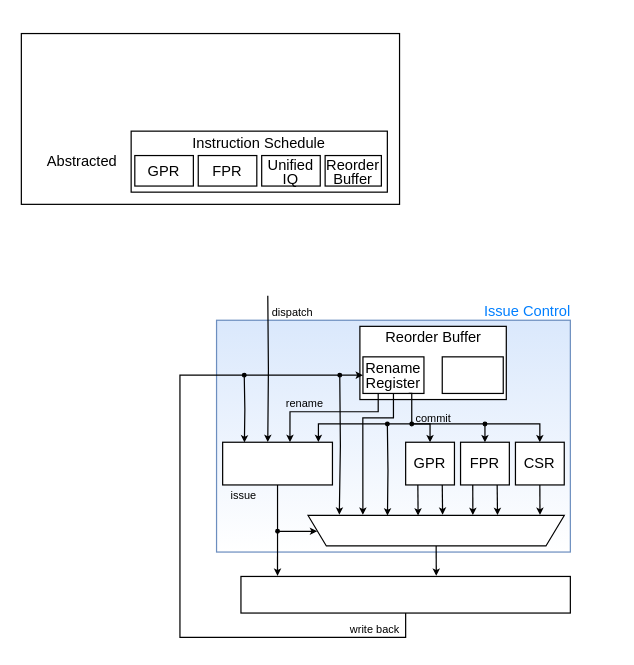
Image size: 634x665. Some labels were removed from this diagram. Each missing label, with the box of its shape:
Exe Stage / Common Data Bus: (240, 575, 570, 613)
Inst Status: (441, 356, 503, 393)
Instruction Queue: (221, 441, 332, 485)
Issue Control Containing GPR, FPR, Instruction Queue, ReorderBuffer: (20, 32, 400, 204)
Operand Mux: (307, 514, 564, 546)
